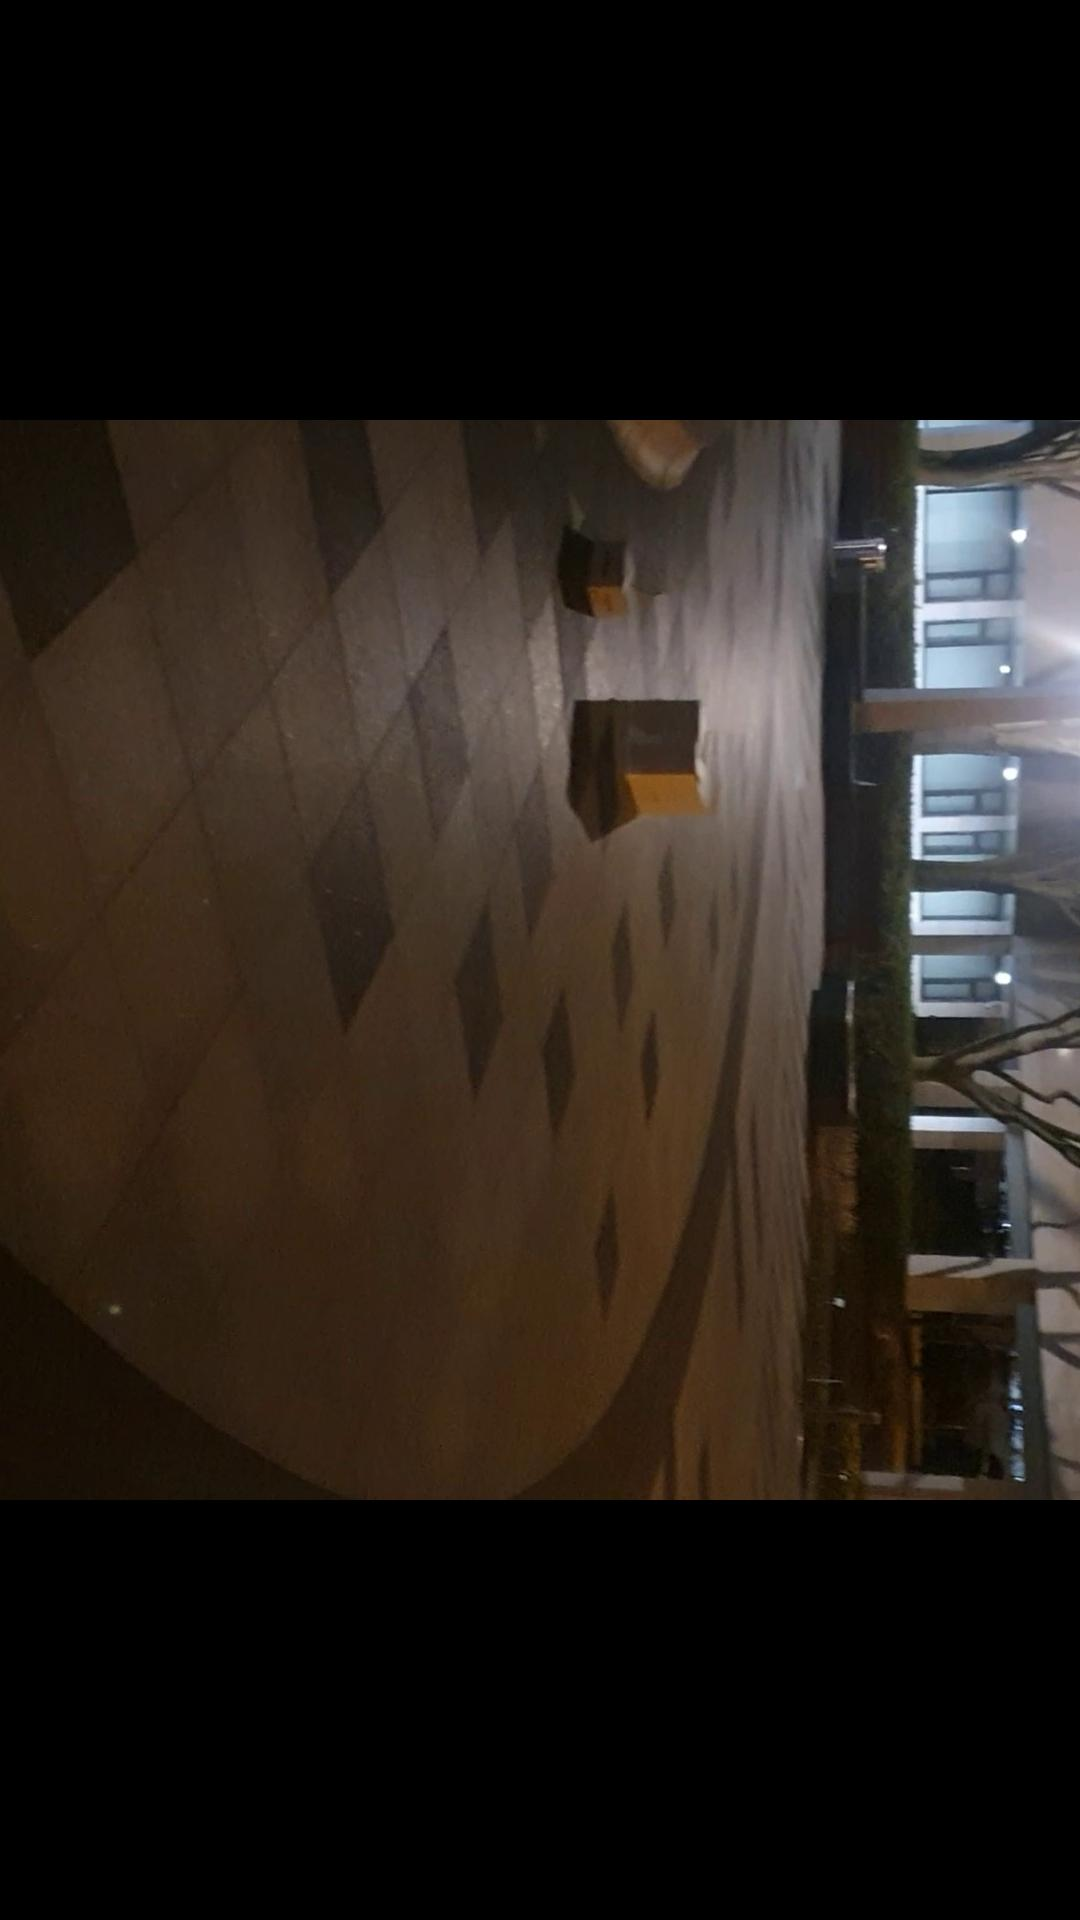Box: (603, 680, 727, 825), (583, 535, 645, 630)
